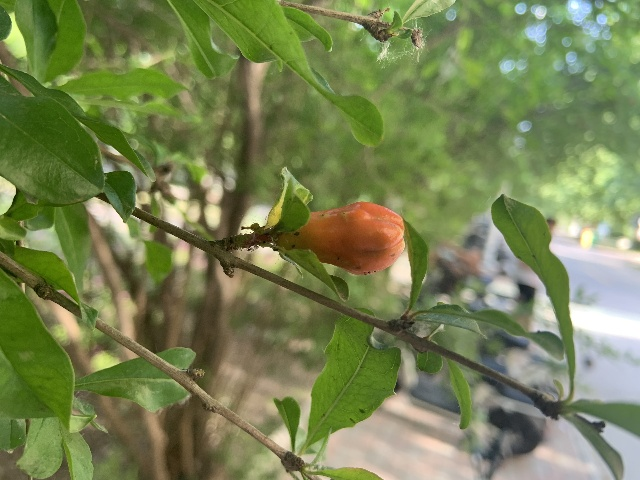bud: (283, 201, 406, 275)
